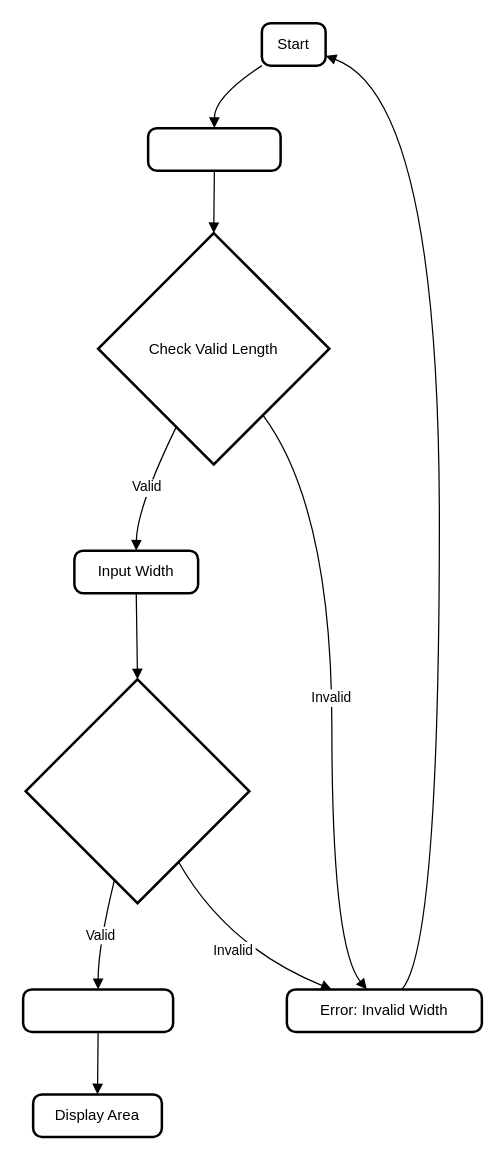
Some shapes in this 504 by 1159 pixel diagram are drawn without their labels. The shapes that lost their labels are listed below. From the top down, each one's box as (x1, y1, x2, y2) in pixels, then its label:
(146, 126, 281, 171): Input Length
(24, 678, 250, 904): Check Valid Width
(21, 988, 174, 1032): Calculate Area
